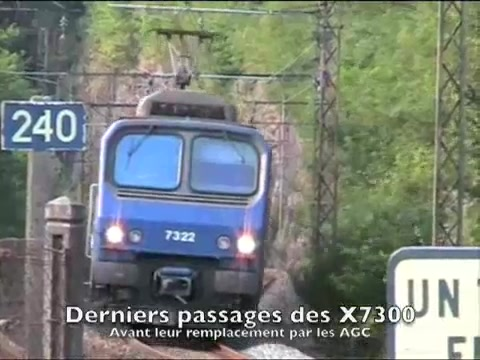train: (84, 89, 273, 309)
